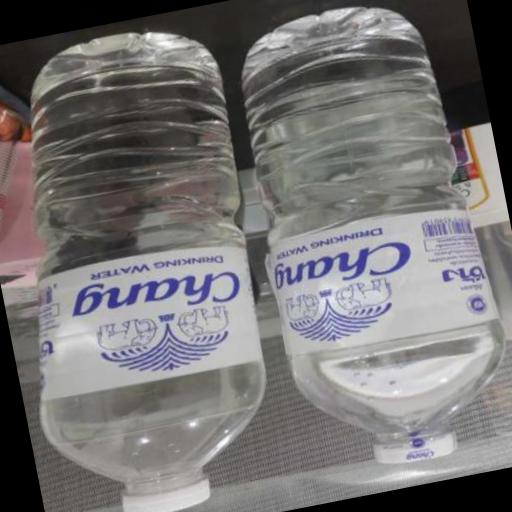Coca: (0, 7, 314, 512), (214, 0, 512, 493)
